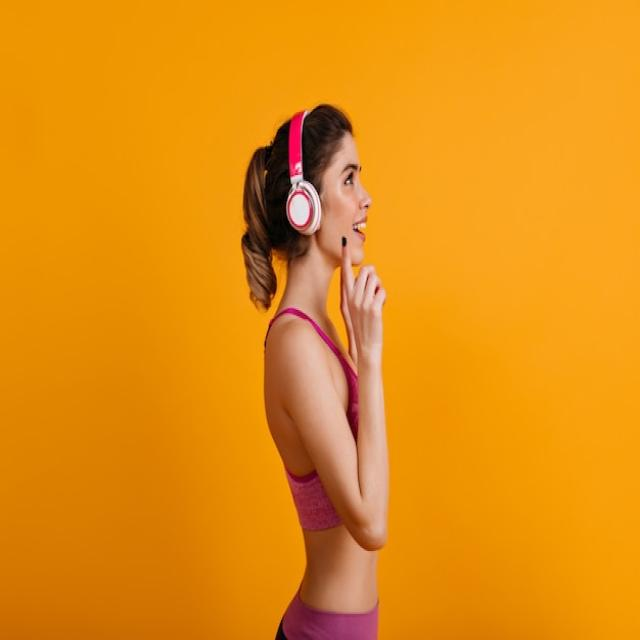Headphone: (284, 109, 322, 238)
